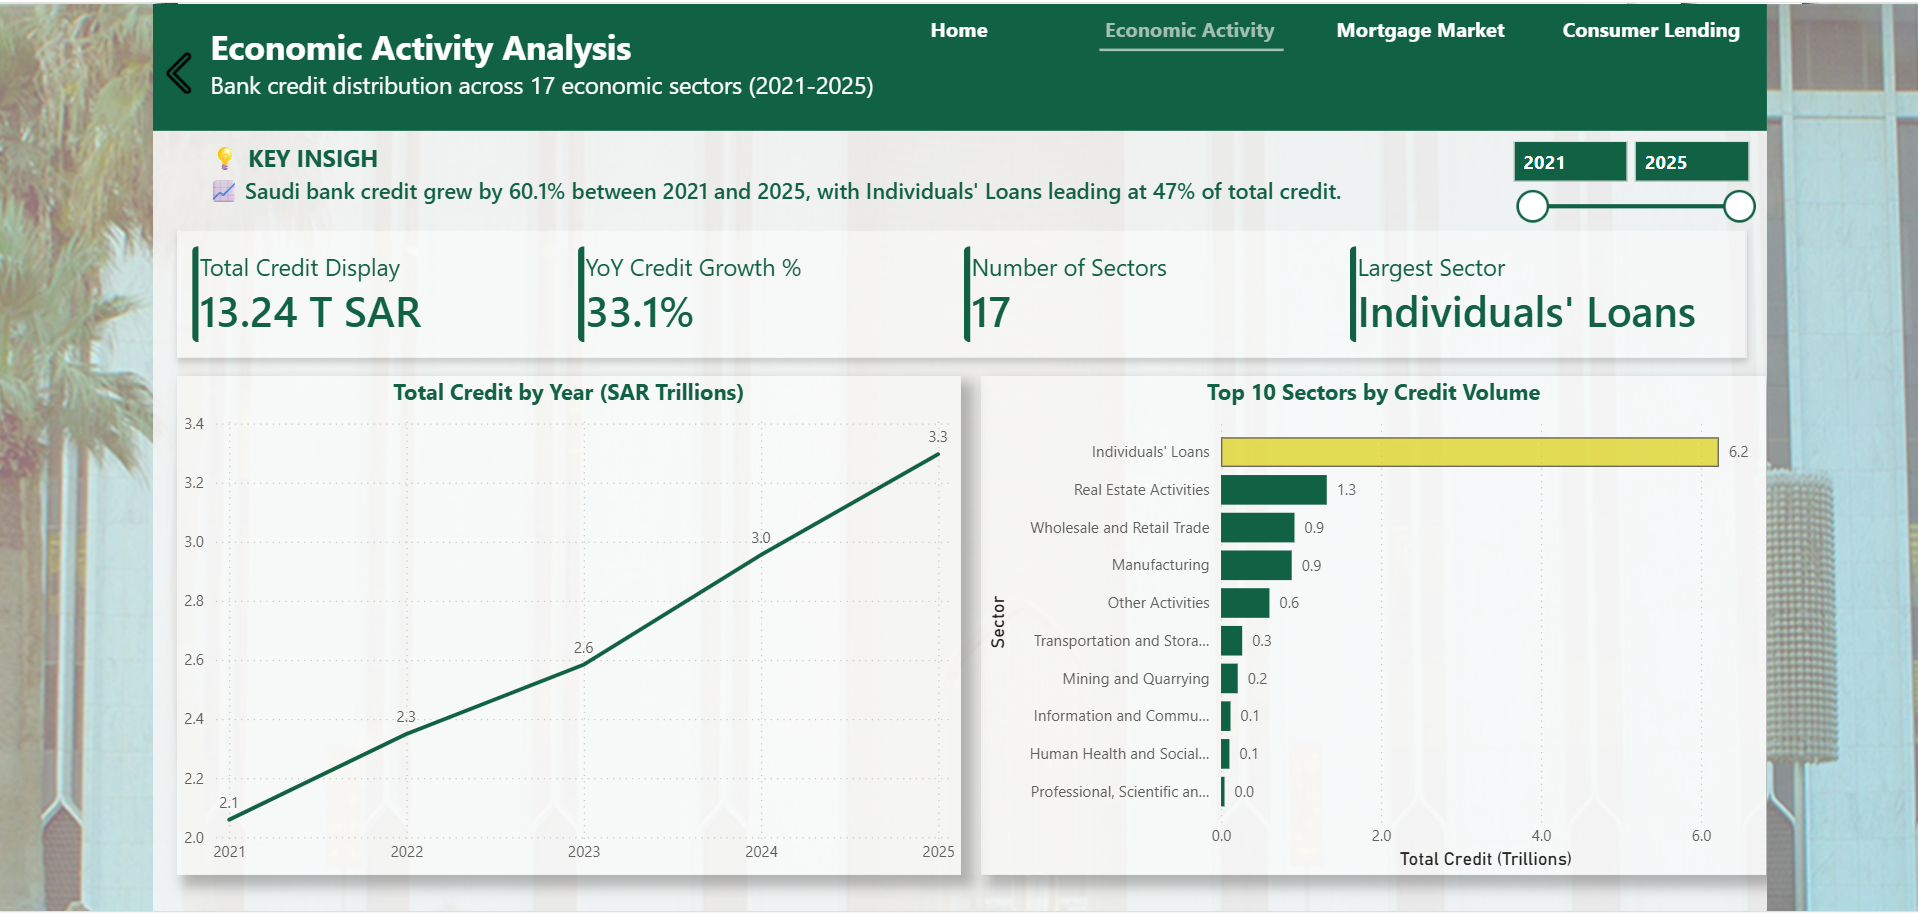

What the dashboard file says about the page in this screenshot:
{"tool":"powerbi","page":{"name":"Economic Activity","canvas":[1280,720],"ordinal":1},"visuals":[{"type":"shape","box":[0,0,1279.8,100.6],"z":0},{"type":"textbox","box":[39.9,11,653,88.2],"z":1000},{"type":"cardVisual","fields":{"Data":["_Measures.Total Credit","_Measures.YoY Credit Growth %","_Measures.number of Sector","_Measures.Largest Sector"]},"box":[19.3,176.3,1245.3,104.7],"z":2000},{"type":"clusteredBarChart","title":"Top 10 Sectors by Credit Volume","fields":{"Category":["Credit_By_Activity.Sector"],"Y":["_Measures.Total Credit (Trillions)"]},"box":[657.1,294.8,622.7,395.4],"z":3000},{"type":"lineChart","title":"Total Credit by Year (SAR Trillions)","fields":{"Category":["DateTable.year"],"Y":["_Measures.Total Credit (Trillions)"]},"box":[19.3,294.8,621.3,395.4],"z":4000},{"type":"slicer","fields":{"Values":["DateTable.year"]},"box":[1066.2,99.2,213.5,77.1],"z":5000},{"type":"actionButton","box":[0,34.7,52,41],"z":6000},{"type":"cardVisual","fields":{"Data":["_Measures.Dynamic Insight"]},"box":[15.8,92.9,1071.1,83.5],"z":7000},{"type":"pageNavigator","box":[551,0,728.7,39.9],"z":8000},{"type":"shape","box":[750.8,22,146,27.6],"z":9000}]}

Visuals, with their boxes on the page's 1280x720 design canvas (x1, y1, x2, y2). These are canvas units, not pixel positions in the 1918x913 screenshot, which may show the page scaled, cropped or inside an application window:
shape: x1=0, y1=0, x2=1280, y2=101
textbox: x1=40, y1=11, x2=693, y2=99
cardVisual - _Measures.Total Credit x _Measures.YoY Credit Growth %: x1=19, y1=176, x2=1265, y2=281
"Top 10 Sectors by Credit Volume" clusteredBarChart: x1=657, y1=295, x2=1280, y2=690
"Total Credit by Year (SAR Trillions)" lineChart: x1=19, y1=295, x2=641, y2=690
slicer - DateTable.year: x1=1066, y1=99, x2=1280, y2=176
actionButton: x1=0, y1=35, x2=52, y2=76
cardVisual - _Measures.Dynamic Insight: x1=16, y1=93, x2=1087, y2=176
pageNavigator: x1=551, y1=0, x2=1280, y2=40
shape: x1=751, y1=22, x2=897, y2=50
